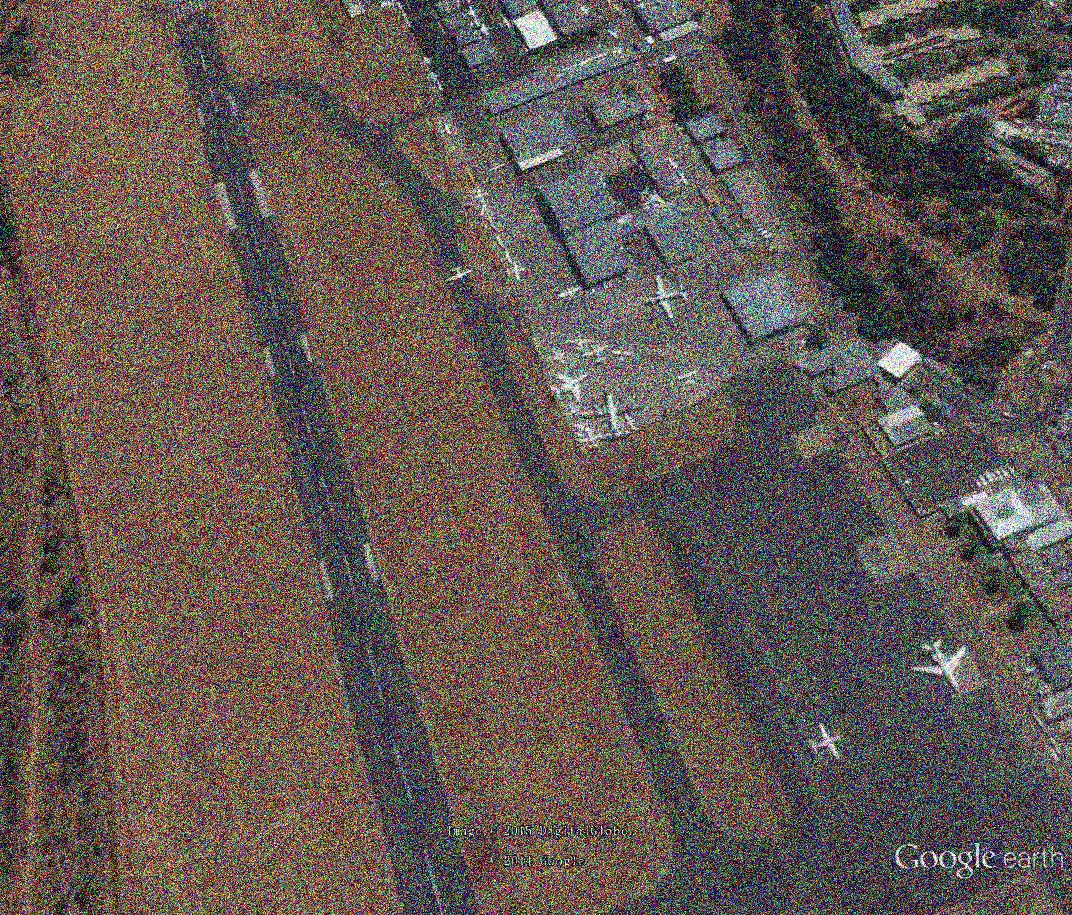aircraft: (569, 389, 653, 443), (908, 637, 972, 698), (641, 272, 694, 324), (546, 370, 594, 405), (805, 722, 844, 764), (580, 341, 611, 367), (562, 333, 598, 355), (446, 265, 475, 287), (577, 430, 606, 452), (558, 403, 585, 425), (503, 262, 528, 285), (618, 412, 641, 436), (572, 419, 597, 440), (675, 368, 701, 388), (556, 286, 583, 305), (545, 347, 567, 370), (459, 169, 482, 190), (610, 347, 636, 365), (480, 216, 502, 236), (472, 26, 496, 42), (671, 171, 691, 190), (468, 189, 490, 206), (664, 157, 684, 173), (499, 250, 515, 269), (427, 81, 447, 96), (590, 50, 613, 63), (488, 161, 509, 175), (605, 28, 624, 43), (496, 17, 517, 30), (417, 53, 434, 69), (490, 236, 508, 251), (460, 7, 479, 21), (559, 63, 578, 77), (576, 58, 597, 70), (468, 16, 484, 31), (424, 71, 441, 85), (438, 124, 455, 138), (393, 9, 411, 21), (400, 17, 416, 30), (611, 44, 626, 57), (579, 5, 593, 17), (392, 2, 405, 13)
